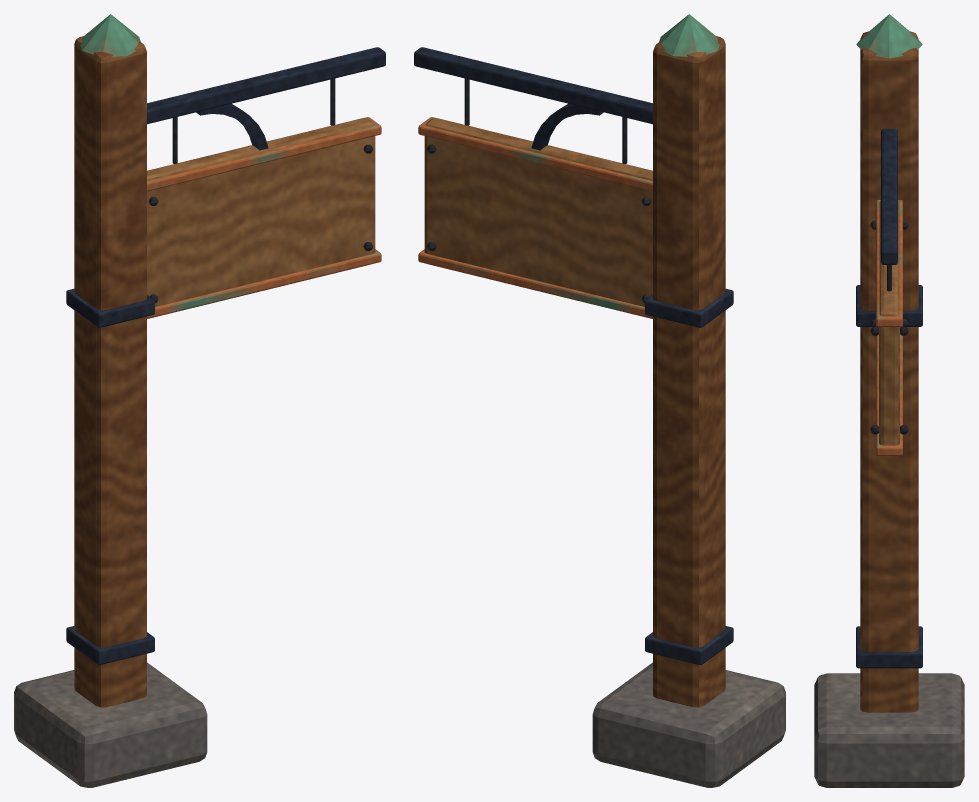
The model's file is signpost.glb.
3 views of the same model, side by side, from view 1: azimuth 30°, elevation 25°; view 2: azimuth 150°, elevation 25°; view 3: azimuth 270°, elevation 25° (orthographic).
Parts seen in each view (by area): view 1: Sign_Post, Sign_Board, Sign_Base, Sign_Bracket, Sign_Trim_1.5, Sign_Trim_1.16, Sign_Finial, Sign_Band_0.3, Sign_Band_1.2, Sign_Scroll; view 2: Sign_Post, Sign_Board, Sign_Base, Sign_Bracket, Sign_Trim_1.5, Sign_Trim_1.16, Sign_Finial, Sign_Band_0.3, Sign_Band_1.2, Sign_Scroll; view 3: Sign_Post, Sign_Base, Sign_Board, Sign_Bracket, Sign_Finial, Sign_Band_0.3, Sign_Trim_1.5, Sign_Trim_1.16, Sign_Band_1.2, Sign_Rivets.
Part boxes in pixels (<box>): Sign_Post: <box>74,36,146,707</box>; Sign_Board: <box>147,118,375,317</box>; Sign_Base: <box>14,662,207,787</box>; Sign_Bracket: <box>147,47,385,124</box>; Sign_Trim_1.5: <box>147,117,381,191</box>; Sign_Trim_1.16: <box>147,249,381,318</box>; Sign_Finial: <box>80,14,140,56</box>; Sign_Band_0.3: <box>66,626,154,665</box>; Sign_Band_1.2: <box>66,288,154,327</box>; Sign_Scroll: <box>196,103,268,150</box>; Sign_Post: <box>653,36,725,707</box>; Sign_Board: <box>424,118,652,317</box>; Sign_Base: <box>592,662,785,787</box>; Sign_Bracket: <box>414,47,652,124</box>; Sign_Trim_1.5: <box>418,117,652,191</box>; Sign_Trim_1.16: <box>418,249,652,318</box>; Sign_Finial: <box>659,14,719,56</box>; Sign_Band_0.3: <box>645,626,733,665</box>; Sign_Band_1.2: <box>645,288,733,327</box>; Sign_Scroll: <box>531,103,603,150</box>; Sign_Post: <box>860,31,918,712</box>; Sign_Base: <box>814,673,964,787</box>; Sign_Board: <box>879,200,899,445</box>; Sign_Bracket: <box>881,128,897,264</box>; Sign_Finial: <box>856,14,922,58</box>; Sign_Band_0.3: <box>856,626,922,668</box>; Sign_Trim_1.5: <box>876,200,902,326</box>; Sign_Trim_1.16: <box>876,334,902,455</box>; Sign_Band_1.2: <box>856,285,922,326</box>; Sign_Rivets: <box>870,220,908,434</box>.
Size of the model in its own units: 0.94 by 1.97 by 0.36.
Materials: 6 (6 with a texture image).
